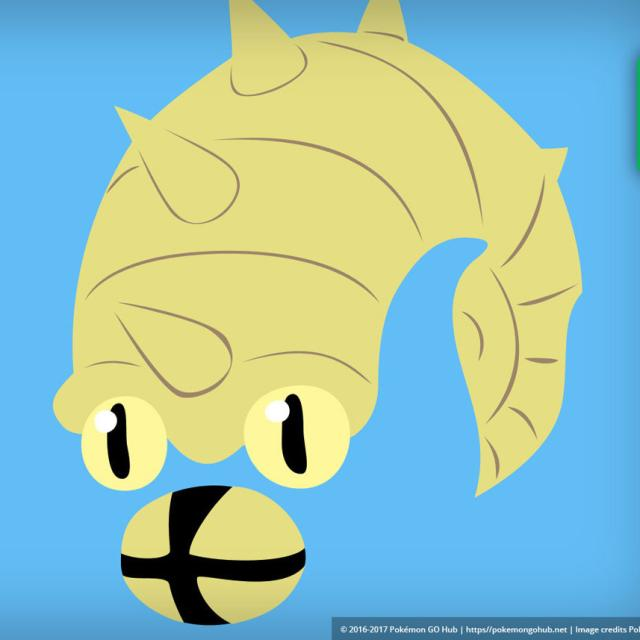Omastar: (35, 8, 591, 626)
